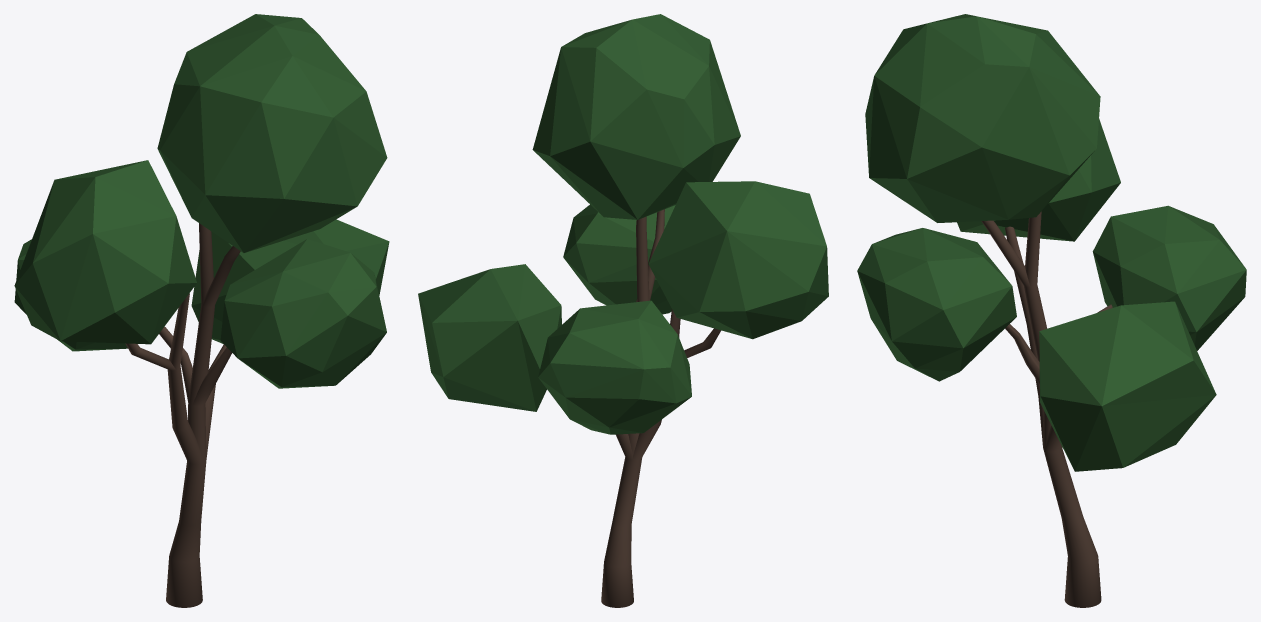
Rendered from Tree3.fbx.
3 views of the same model, side by side, from view 1: azimuth 30°, elevation 25°; view 2: azimuth 150°, elevation 25°; view 3: azimuth 270°, elevation 25° (orthographic). The views are drawn at different scales.
Visible parts, largest first — view 1: Leaves, Trunk; view 2: Leaves, Trunk; view 3: Leaves, Trunk.
Part boxes in pixels (left/top/right/bottom): Leaves: left=14, top=14, right=389, bottom=388; Trunk: left=125, top=223, right=240, bottom=607; Leaves: left=418, top=14, right=828, bottom=434; Trunk: left=601, top=209, right=721, bottom=607; Leaves: left=857, top=14, right=1246, bottom=471; Trunk: left=981, top=211, right=1112, bottom=607.
Size of the model in its own units: 105 by 149 by 87.59.
